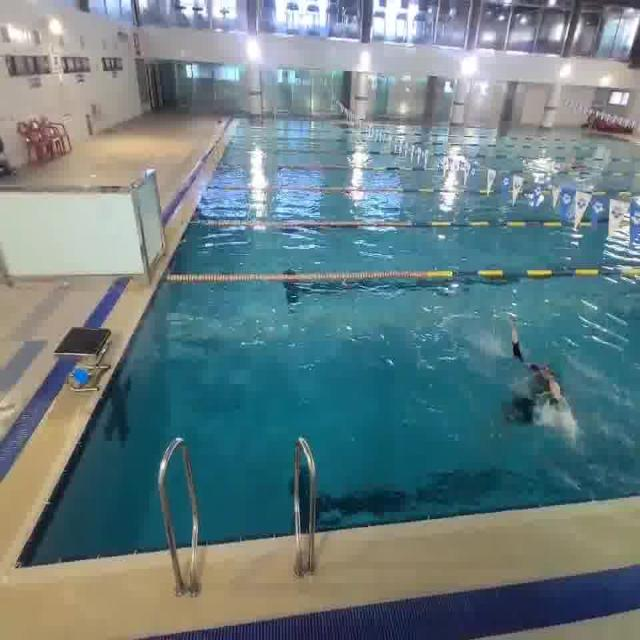Drowning: (482, 314, 599, 454)
